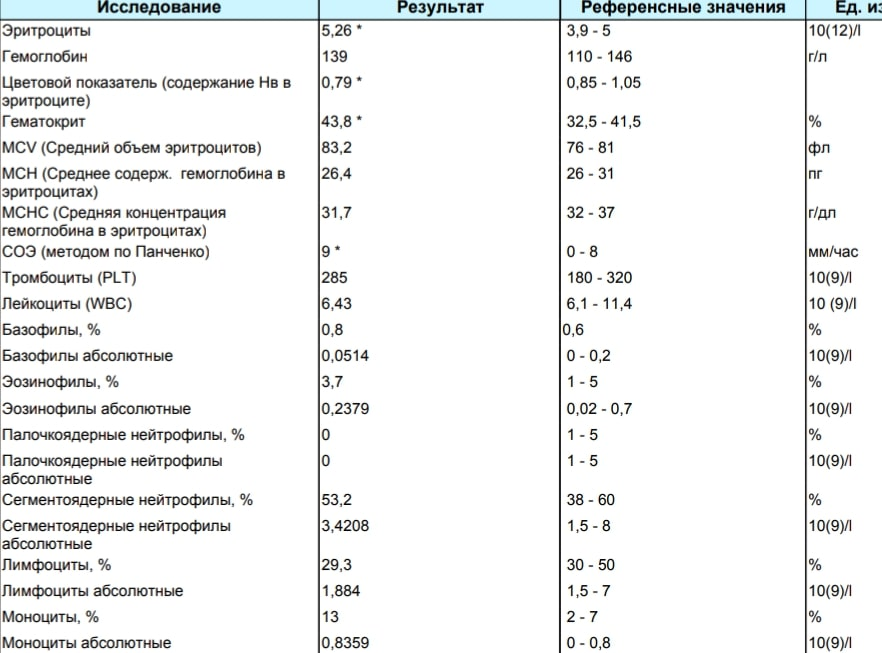column: (1, 1, 292, 652), (565, 1, 786, 652), (319, 1, 485, 652), (807, 1, 882, 652)
